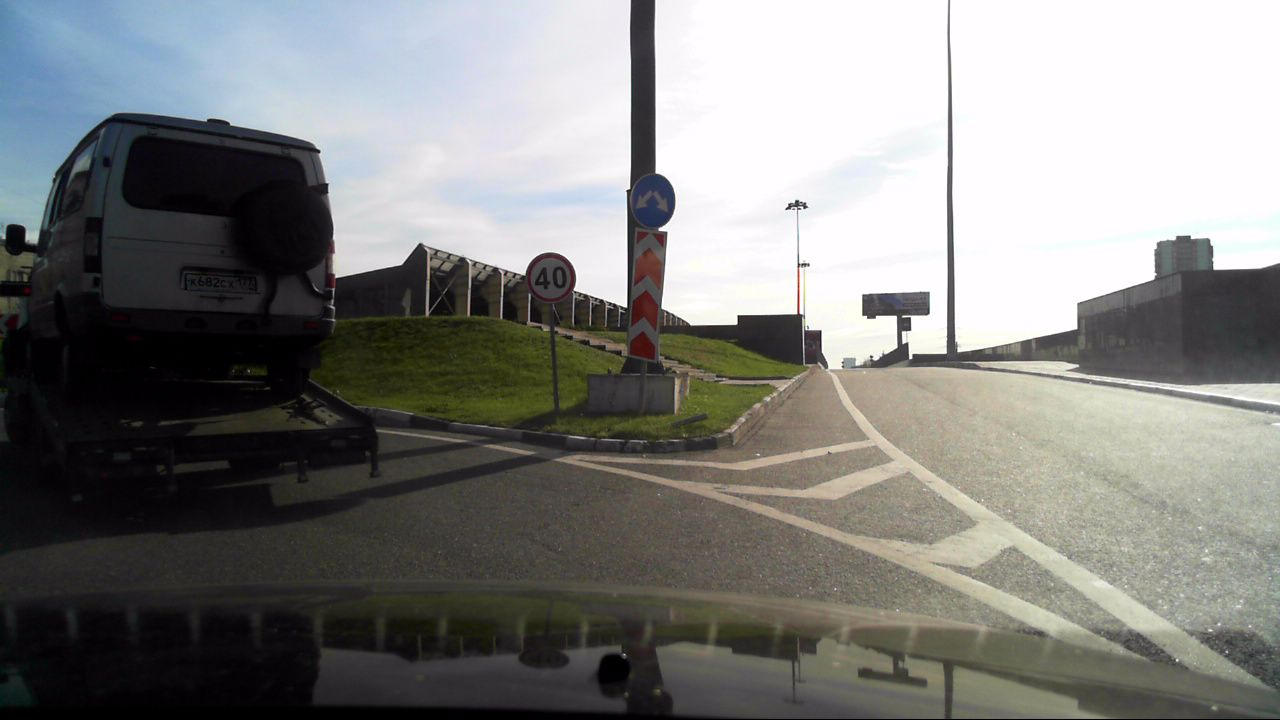speed_warning_40: (525, 248, 579, 303)
